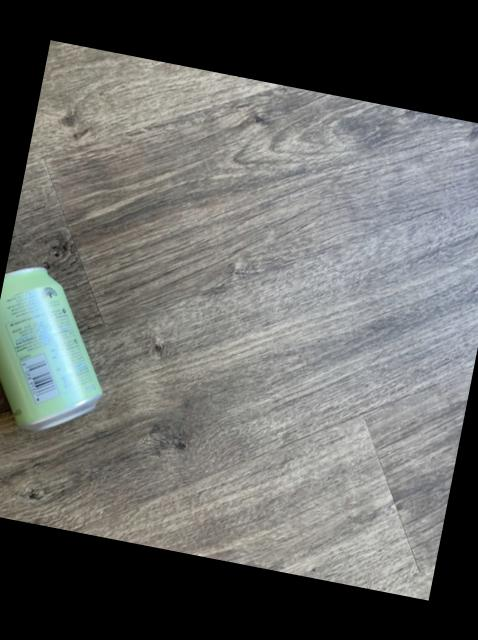metal: (0, 265, 99, 428)
